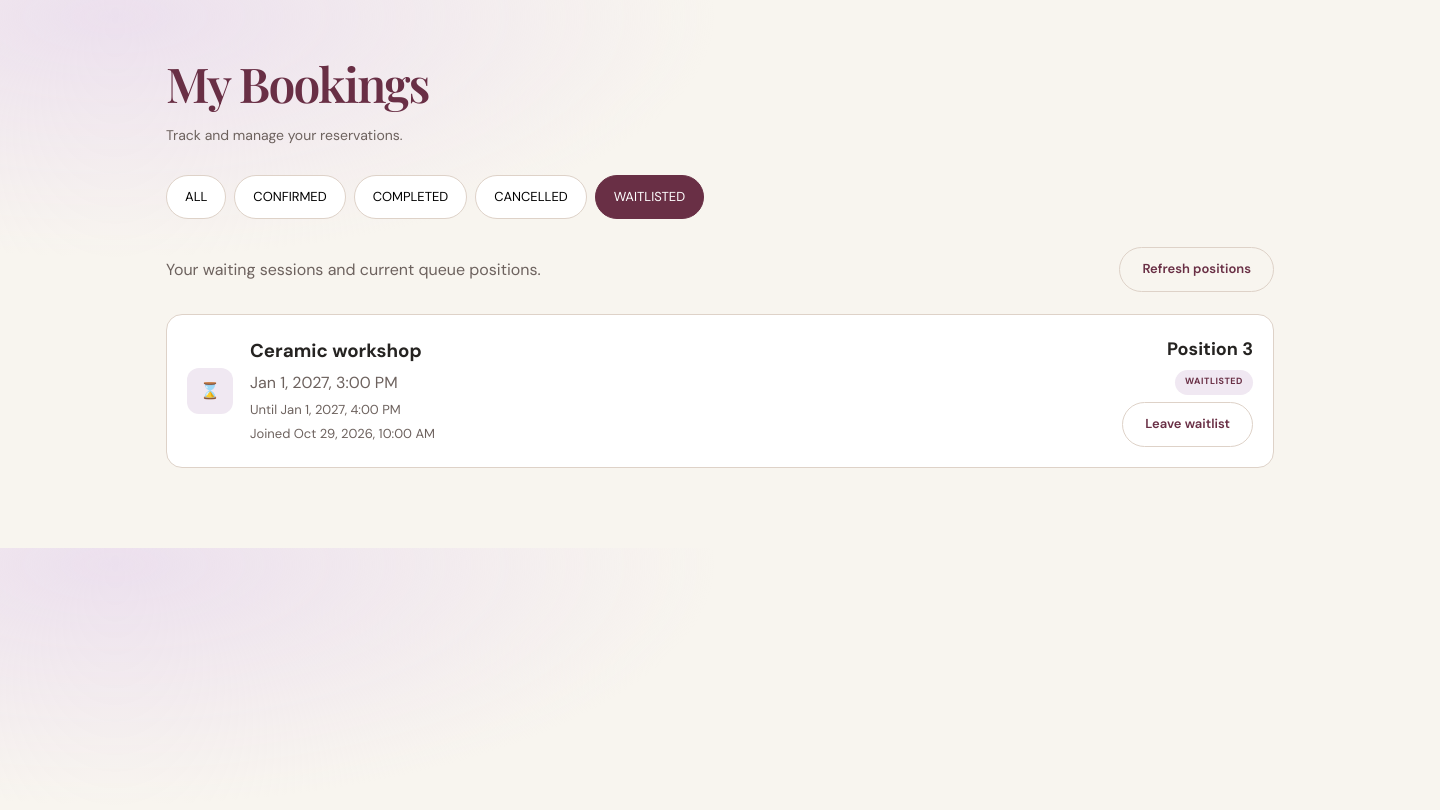
Test: leaves the waitlist using the session ID and refreshes the list to an empty state
Click the button "Leave waitlist" at (1188, 425), box x1=1122 y1=402 x2=1253 y2=447
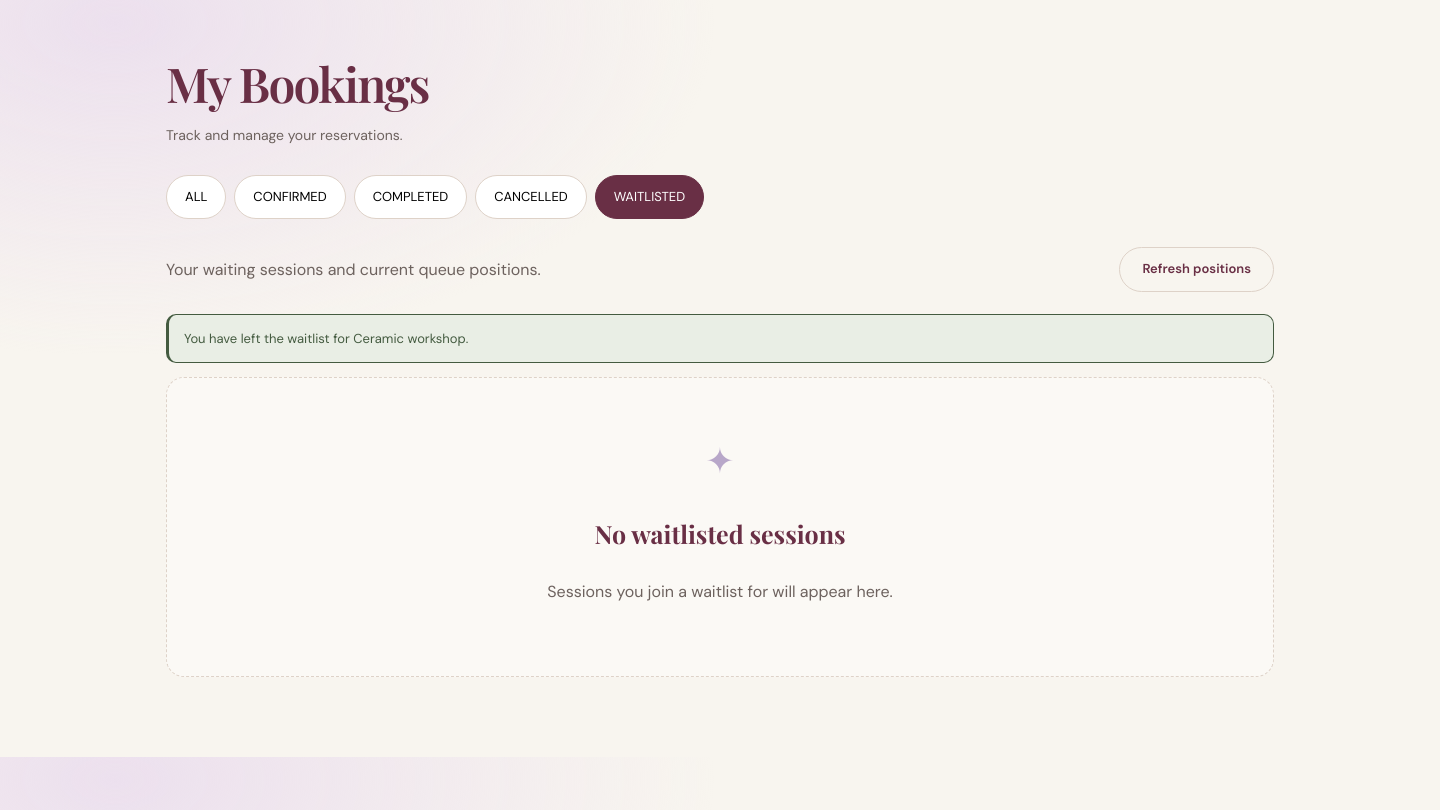
Result: the heading "No waitlisted sessions" is shown at x1=594 y1=517 x2=846 y2=550
Result: the message reads "You have left the waitlist for Ceramic workshop." at x1=184 y1=330 x2=468 y2=347
